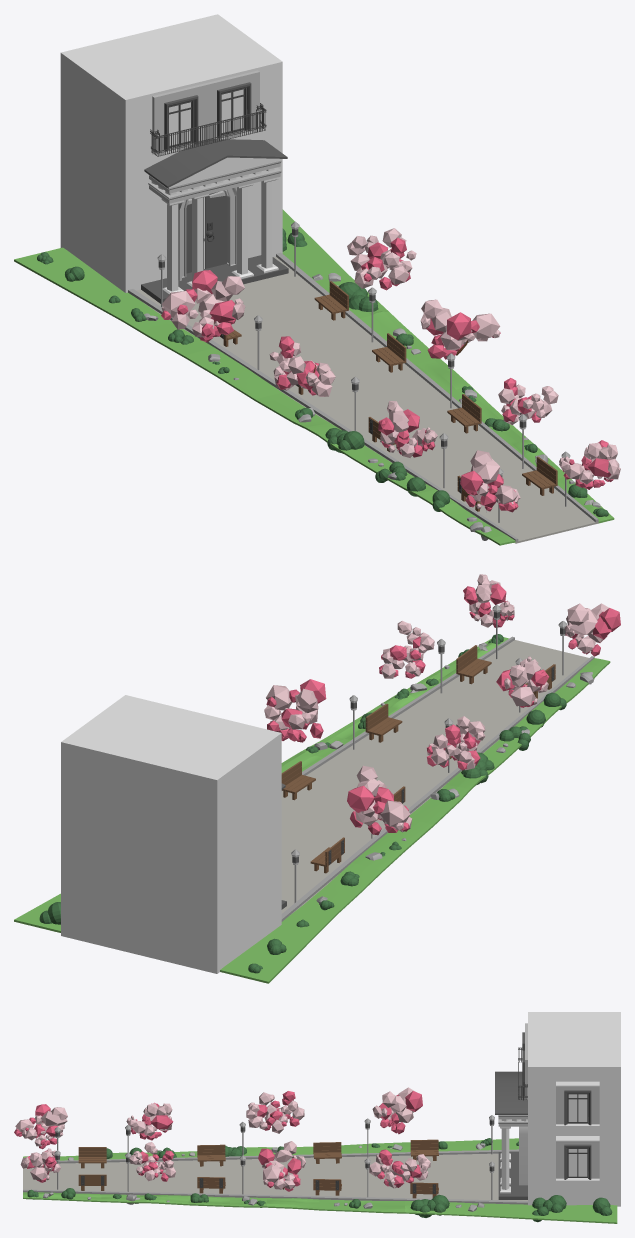
The model's file is campus_001.fbx.
3 views of the same model, one above another, from view 1: azimuth 30°, elevation 25°; view 2: azimuth 150°, elevation 25°; view 3: azimuth 270°, elevation 25° (orthographic). The views are drawn at different scales.
Parts seen in each view (by area): view 1: polySurface130, polySurface381, tree, polySurface378, polySurface379, grass, polySurface232, polySurface131, polySurface382, polySurface380, polySurface132, polySurface120 (+11 smaller); view 2: polySurface130, polySurface381, tree, polySurface378, grass, polySurface379, polySurface382, polySurface380, shone2, standlamp; view 3: polySurface130, polySurface381, tree, polySurface379, grass, polySurface378, polySurface380, polySurface232, polySurface382, standlamp, polySurface50, polySurface120 (+6 smaller).
Boxes of the visible parts, left/top/right/bottom form: polySurface130: left=60, top=14, right=282, bottom=292; polySurface381: left=136, top=256, right=598, bottom=543; tree: left=161, top=228, right=620, bottom=512; polySurface378: left=14, top=247, right=515, bottom=545; polySurface379: left=282, top=209, right=614, bottom=523; grass: left=37, top=228, right=608, bottom=516; polySurface232: left=144, top=139, right=287, bottom=188; polySurface131: left=186, top=191, right=227, bottom=273; polySurface382: left=128, top=289, right=518, bottom=541; polySurface380: left=276, top=252, right=598, bottom=522; polySurface132: left=178, top=187, right=236, bottom=280; polySurface120: left=141, top=255, right=288, bottom=303; polySurface130: left=61, top=695, right=281, bottom=973; polySurface381: left=281, top=640, right=588, bottom=913; tree: left=264, top=574, right=620, bottom=835; polySurface378: left=220, top=658, right=610, bottom=983; grass: left=39, top=634, right=566, bottom=973; polySurface379: left=14, top=637, right=508, bottom=932; polySurface382: left=281, top=656, right=594, bottom=921; polySurface380: left=281, top=636, right=514, bottom=790; shone2: left=314, top=643, right=594, bottom=904; standlamp: left=291, top=604, right=567, bottom=902; polySurface130: left=528, top=1012, right=620, bottom=1206; polySurface381: left=23, top=1153, right=527, bottom=1200; tree: left=14, top=1087, right=430, bottom=1191; polySurface379: left=23, top=1192, right=617, bottom=1223; grass: left=27, top=1138, right=612, bottom=1222; polySurface378: left=23, top=1138, right=518, bottom=1160; polySurface380: left=23, top=1189, right=527, bottom=1204; polySurface232: left=495, top=1071, right=527, bottom=1114; polySurface382: left=56, top=1149, right=518, bottom=1163; standlamp: left=54, top=1115, right=494, bottom=1199; polySurface50: left=556, top=1087, right=599, bottom=1124; polySurface120: left=498, top=1152, right=527, bottom=1199.
Size of the model in its own units: 48.54 by 37.57 by 139.
